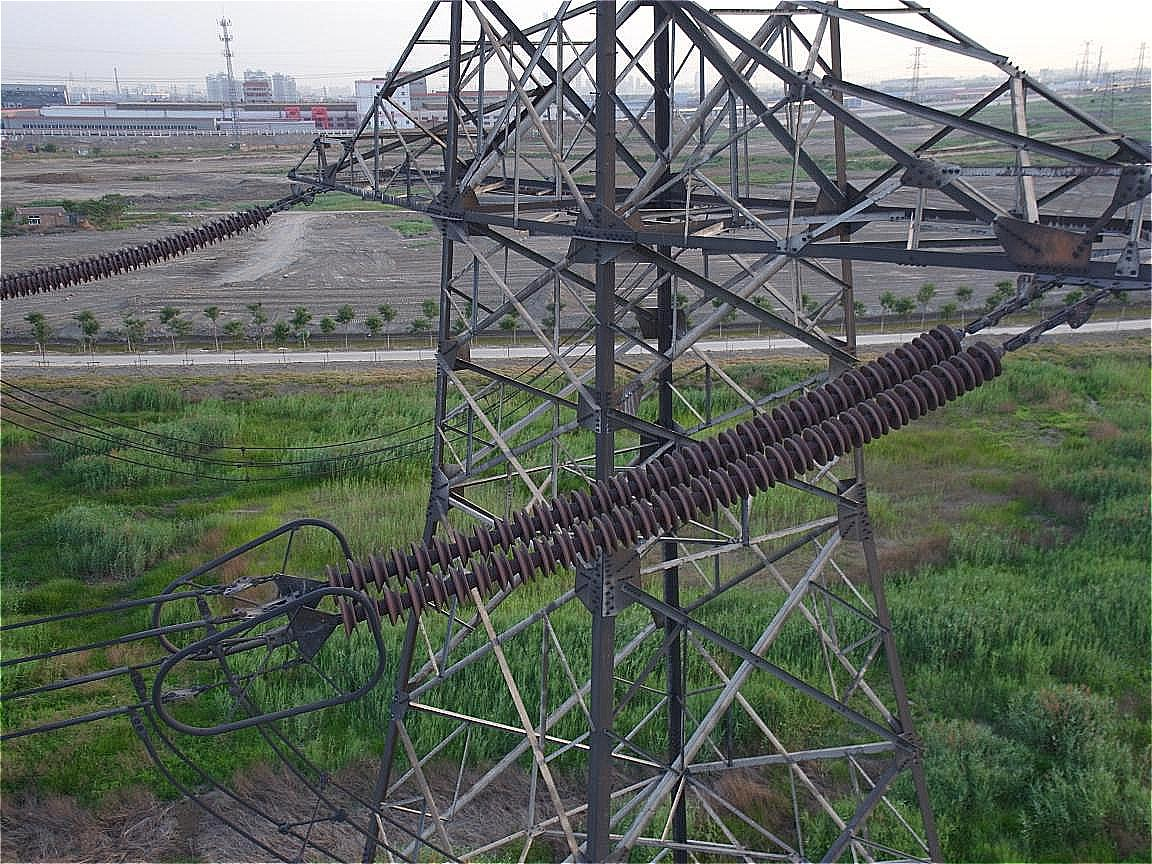insultor2: (323, 321, 1003, 637), (3, 202, 267, 303)
